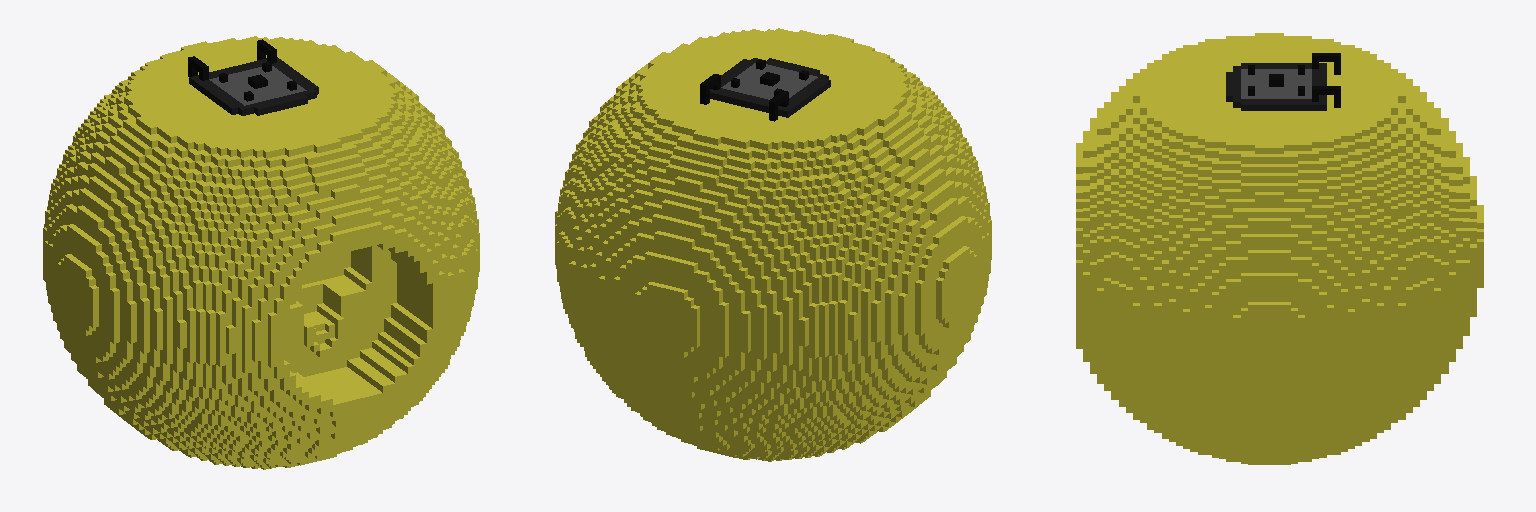
The picture shows the model from 3 angles: view 1: azimuth 30°, elevation 25°; view 2: azimuth 150°, elevation 25°; view 3: azimuth 270°, elevation 25°; orthographic projection.
Parts seen in each view (by area): view 1: OctopodeBody; view 2: OctopodeBody; view 3: OctopodeBody.
Part boxes in pixels (x1,y1,x2,y2): OctopodeBody: (43, 36, 479, 469); OctopodeBody: (555, 28, 991, 461); OctopodeBody: (1076, 33, 1483, 464).
Size of the model in its own units: 60 by 57 by 57.
Materials: 1 (1 with a texture image).